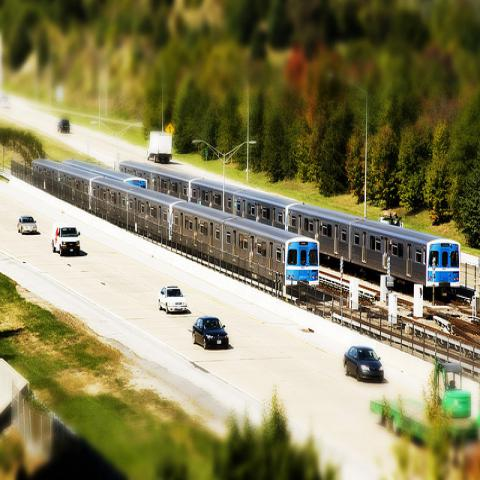car: (343, 348, 384, 382), (192, 317, 230, 349), (156, 280, 192, 312), (17, 216, 37, 234), (57, 118, 70, 133)
truck: (50, 220, 80, 255), (146, 131, 173, 164)
